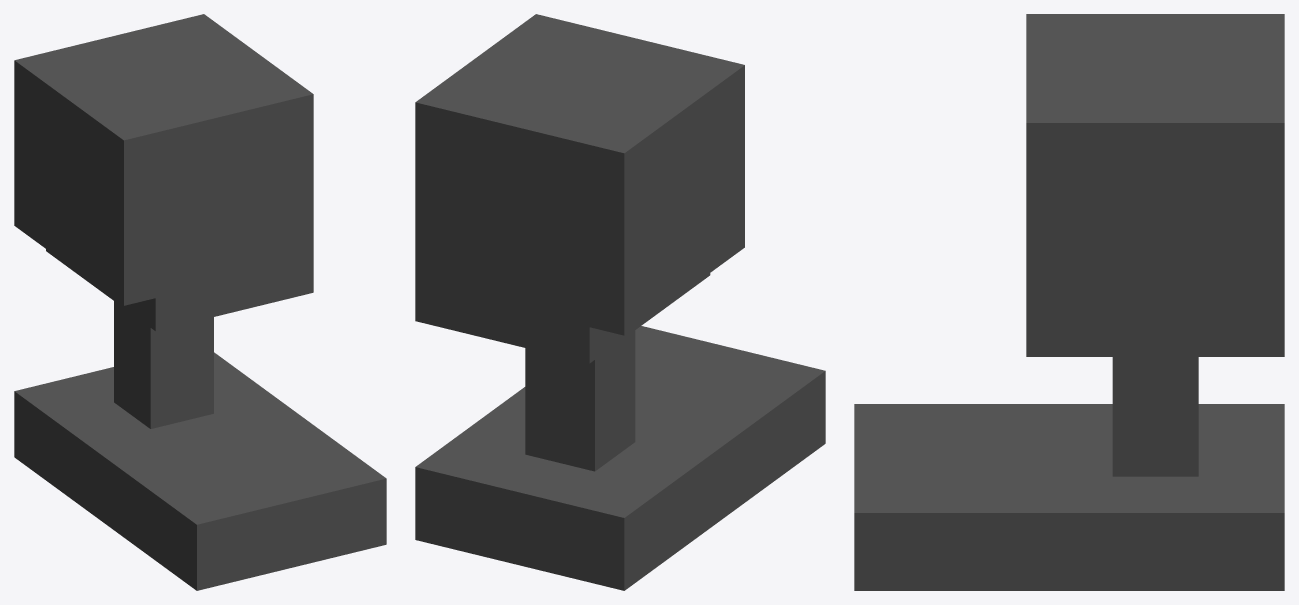
The model's file is PlayerDark-6-Player_RFoot.obj.
3 views of the same model, side by side, from view 1: azimuth 30°, elevation 25°; view 2: azimuth 150°, elevation 25°; view 3: azimuth 270°, elevation 25° (orthographic). The views are drawn at different scales.
Parts seen in each view (by area): view 1: Player_RFoot; view 2: Player_RFoot; view 3: Player_RFoot.
Boxes of the visible parts, x1,y1,x2,y2 form: Player_RFoot: [14, 14, 386, 590]; Player_RFoot: [415, 14, 825, 590]; Player_RFoot: [854, 14, 1284, 590].
Bounding box in the file's own units: 0.6 × 1.2 × 1.
Materials: 1 (1 with a texture image).
